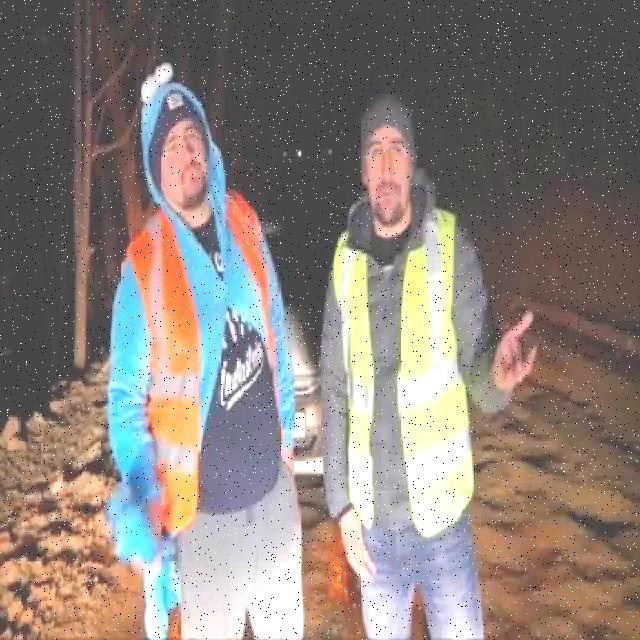Mask: (124, 190, 281, 536), (332, 206, 474, 540)
